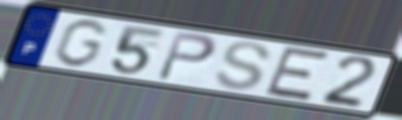2: (320, 54, 380, 111)
5: (109, 23, 168, 76)
E: (261, 44, 334, 103)
G: (50, 18, 111, 69)
P: (153, 29, 219, 83)
S: (212, 40, 274, 92)
